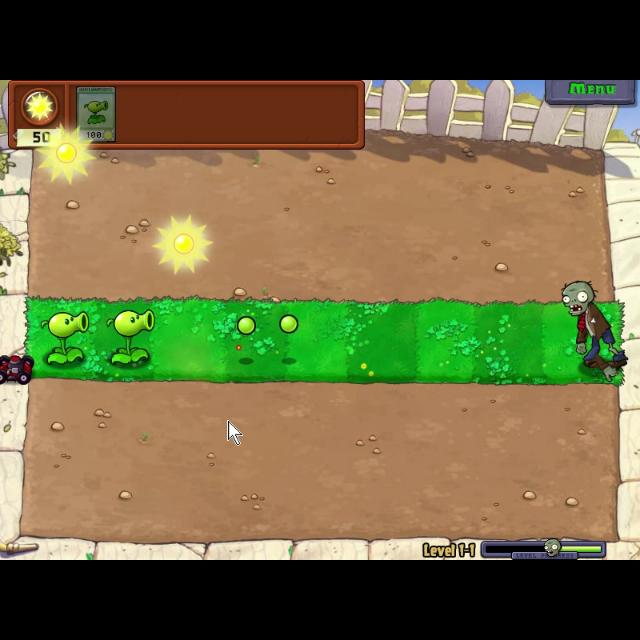Garden: (22, 294, 628, 388)
Menu Button: (545, 80, 635, 106)
Mower: (1, 352, 36, 386)
Peashooter: (74, 80, 116, 144)
Peashooter Seed: (102, 307, 156, 368), (36, 310, 90, 370)
Seed Panel: (5, 80, 368, 152)
Sun: (152, 212, 214, 276), (33, 124, 96, 186)
Zombie: (558, 278, 628, 376)
